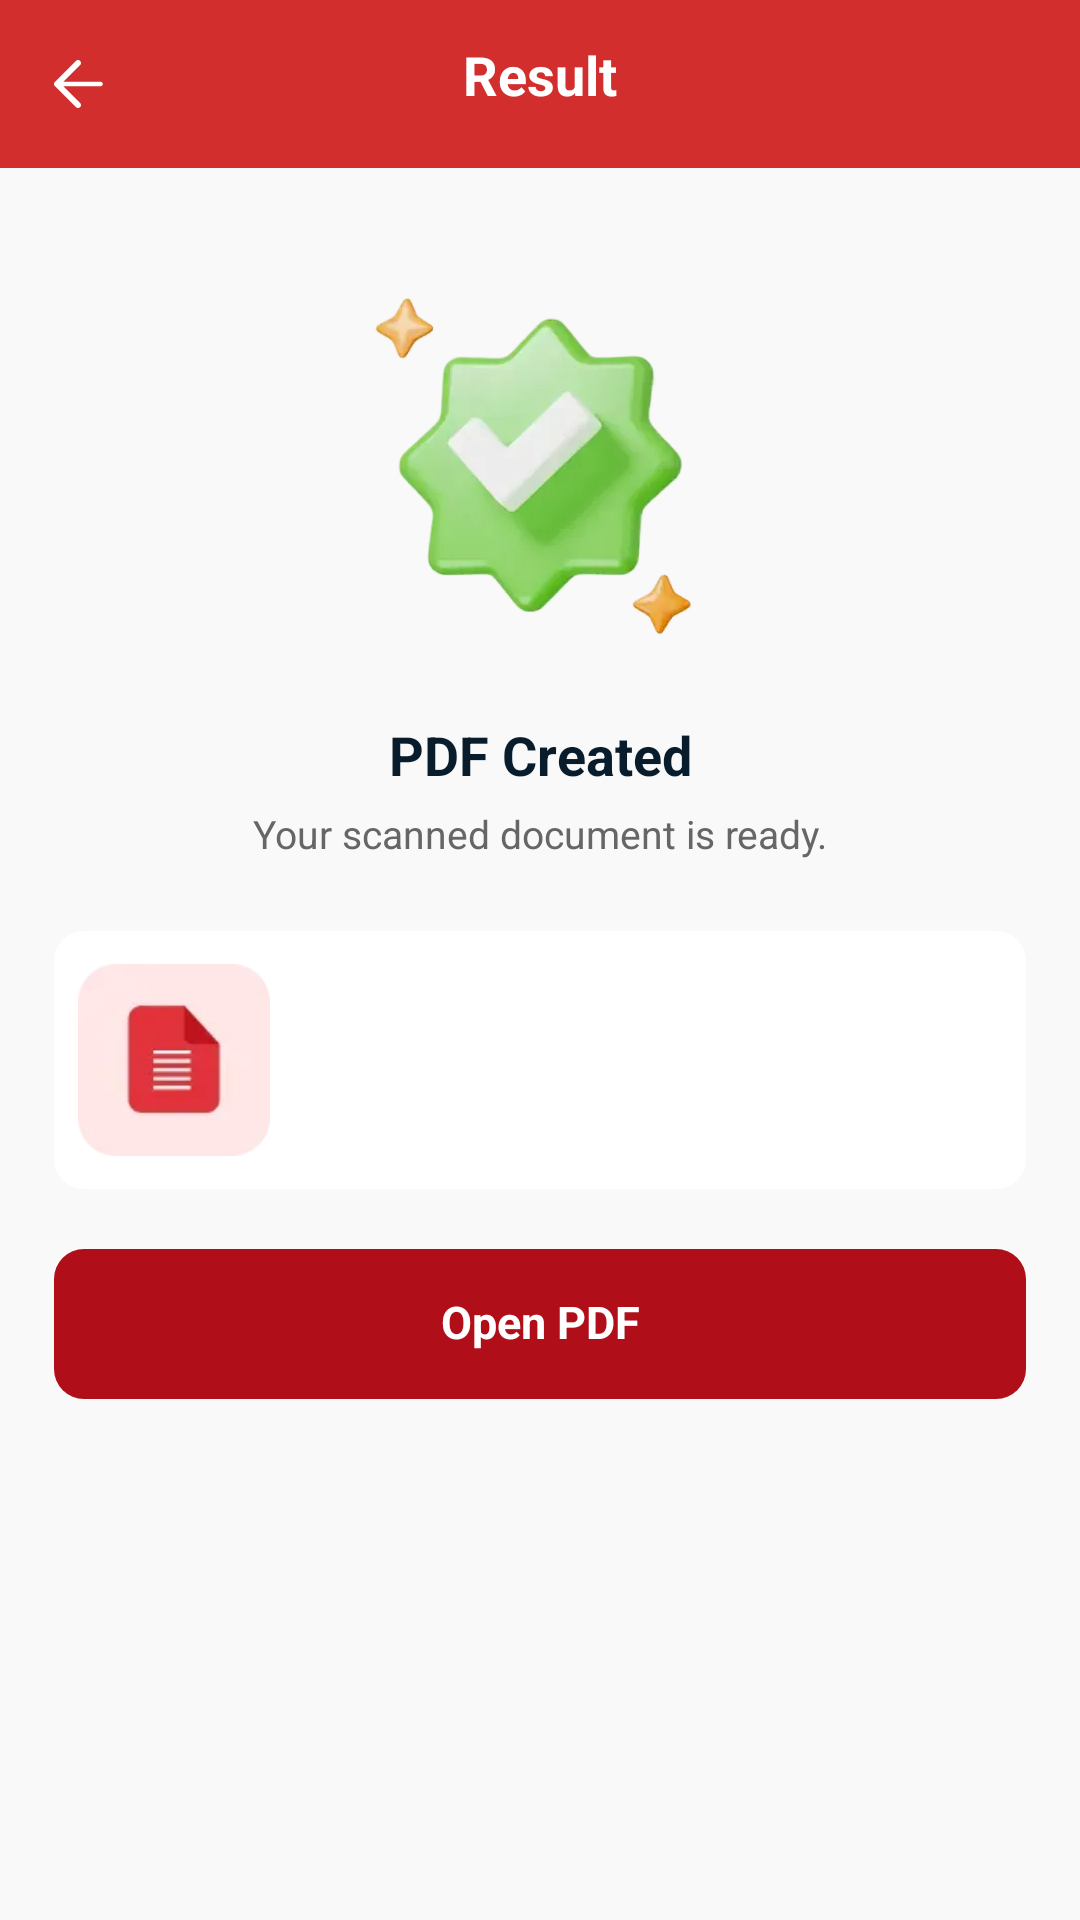

Screen size 1080 × 1920. Icon name, then its center in pixels as point (x, y):
back: point (78, 84)
success: point (533, 466)
